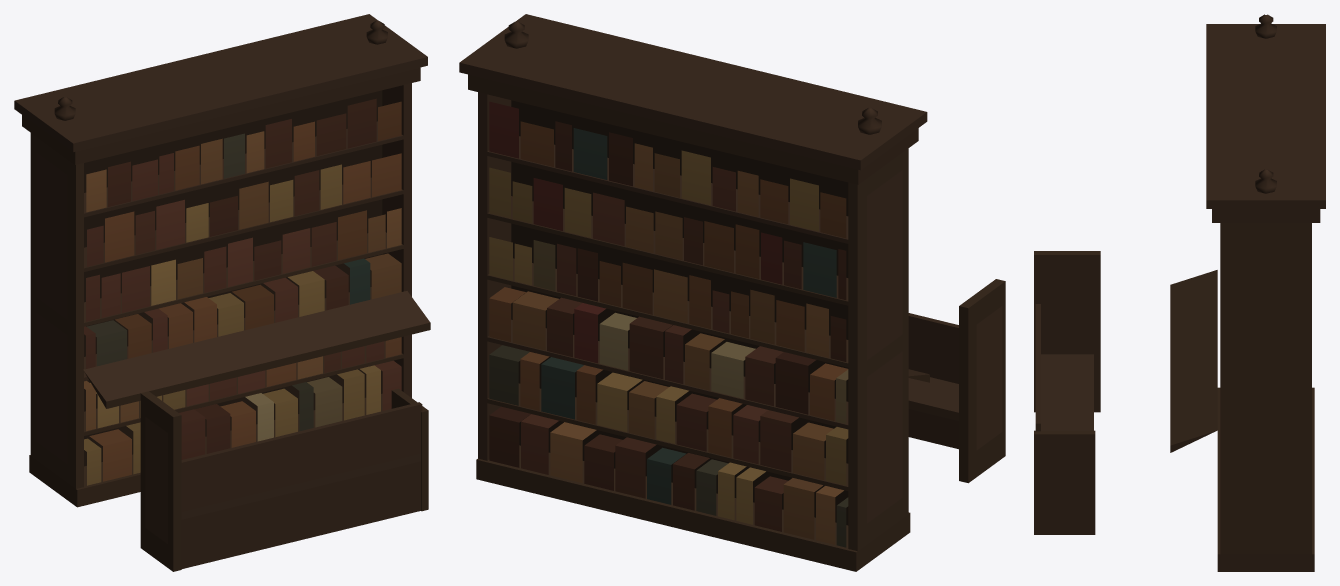
The model's file is bookcase.press_tall.dark_oak.glb.
The picture shows the model from 3 angles, left to right: view 1: azimuth 30°, elevation 25°; view 2: azimuth 150°, elevation 25°; view 3: azimuth 270°, elevation 25°; orthographic projection. The views are drawn at different scales.
Visible parts, largest first — view 1: bookcase_press_tall_dark_oak; view 2: bookcase_press_tall_dark_oak; view 3: bookcase_press_tall_dark_oak.
Part boxes in pixels (<box>): bookcase_press_tall_dark_oak: <box>14,14,430,571</box>; bookcase_press_tall_dark_oak: <box>459,14,1005,571</box>; bookcase_press_tall_dark_oak: <box>1034,14,1325,571</box>.
Size of what is drawn, in the model's own units: 3 by 3.15 by 2.1.
